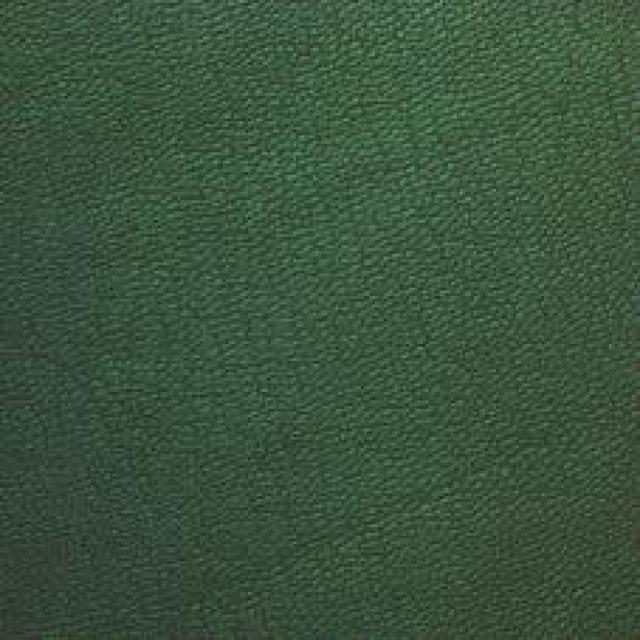Growth Marks: (188, 432, 571, 606)
